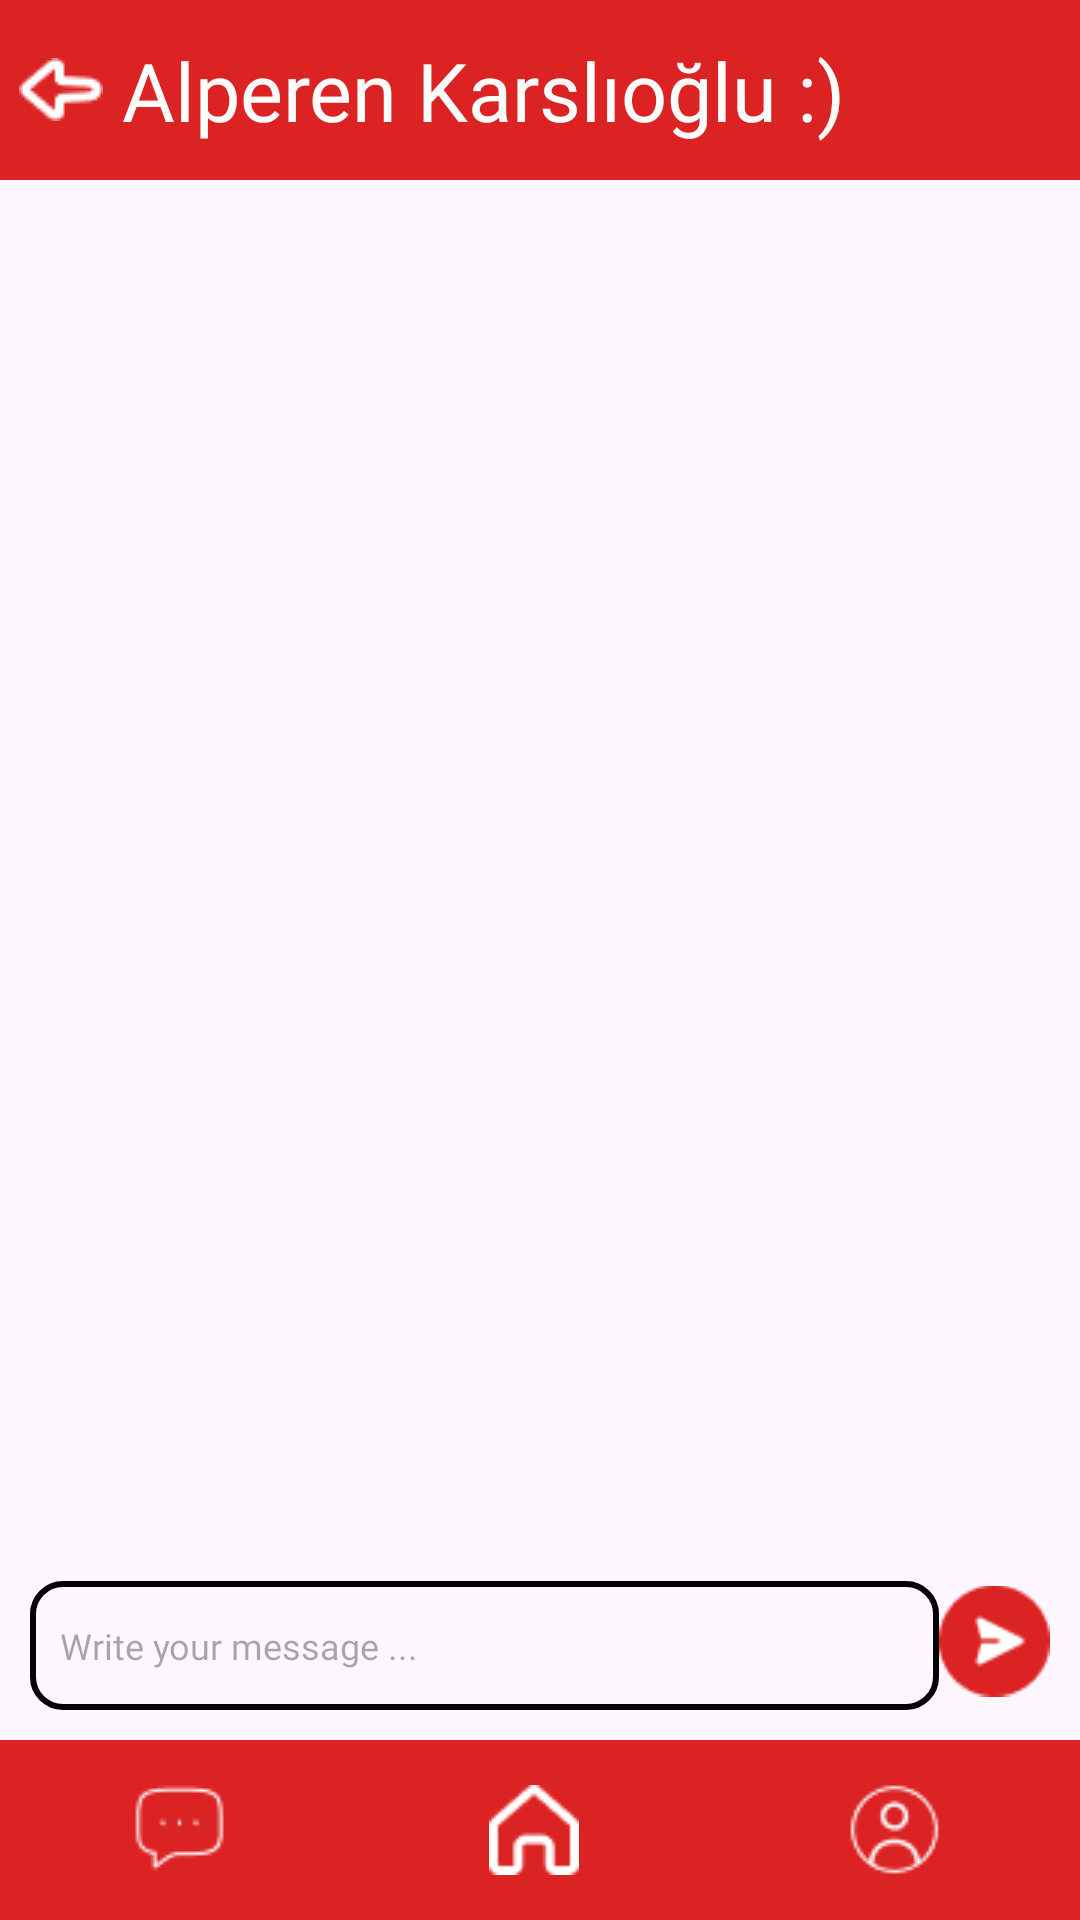

Where to tap for icons on this 1080×1920 app screen, as [x,y]:
chat: [179,1828]
profile: [894,1829]
send message: [994,1641]
